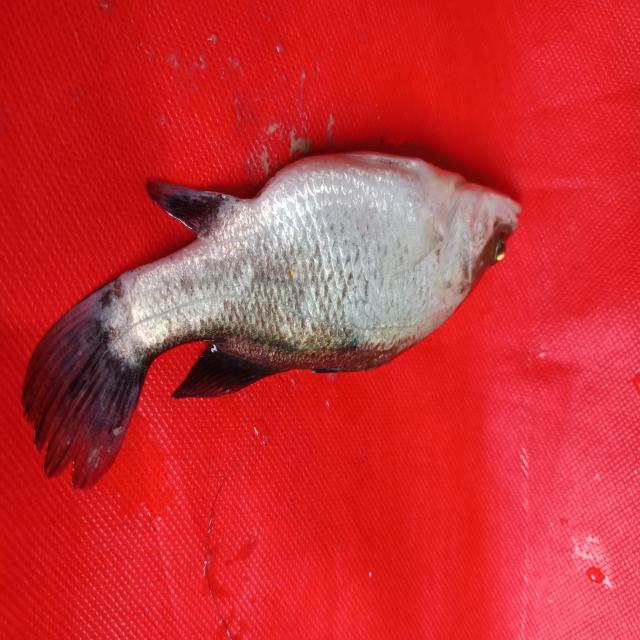ikan: (11, 117, 548, 515)
